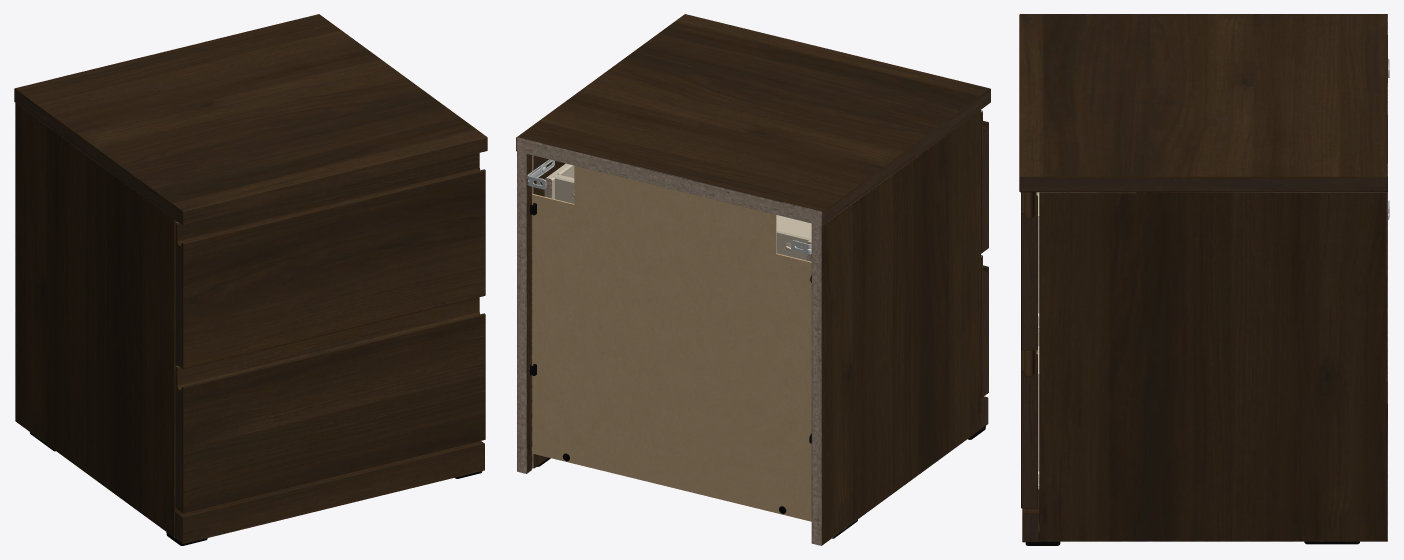
The model's file is STORKLINTA nightstand.glb.
3 renders of one model, left to right at view 1: azimuth 30°, elevation 25°; view 2: azimuth 150°, elevation 25°; view 3: azimuth 270°, elevation 25°, orthographic. The views are drawn at different scales.
Visible parts, largest first — view 1: ASY_ART_70559297_S01_NV01, ASY_LPT02_70559297_S01_NV01, ASY_LPT01_70559297_S01_NV01; view 2: ASY_ART_70559297_S01_NV01, ASY_LPT02_70559297_S01_NV01, ASY_LPT01_70559297_S01_NV01; view 3: ASY_ART_70559297_S01_NV01, ASY_LPT01_70559297_S01_NV01, ASY_LPT02_70559297_S01_NV01.
Part boxes in pixels (<box>): ASY_ART_70559297_S01_NV01: <box>14,14,487,545</box>; ASY_LPT02_70559297_S01_NV01: <box>175,153,485,369</box>; ASY_LPT01_70559297_S01_NV01: <box>175,297,485,513</box>; ASY_ART_70559297_S01_NV01: <box>516,14,990,545</box>; ASY_LPT02_70559297_S01_NV01: <box>544,110,988,261</box>; ASY_LPT01_70559297_S01_NV01: <box>981,255,988,398</box>; ASY_ART_70559297_S01_NV01: <box>1019,14,1389,545</box>; ASY_LPT01_70559297_S01_NV01: <box>1021,331,1039,508</box>; ASY_LPT02_70559297_S01_NV01: <box>1021,192,1039,350</box>.
Bounding box in the file's own units: 0.499 × 0.5275 × 0.4782.
Materials: 3 (3 with a texture image).
